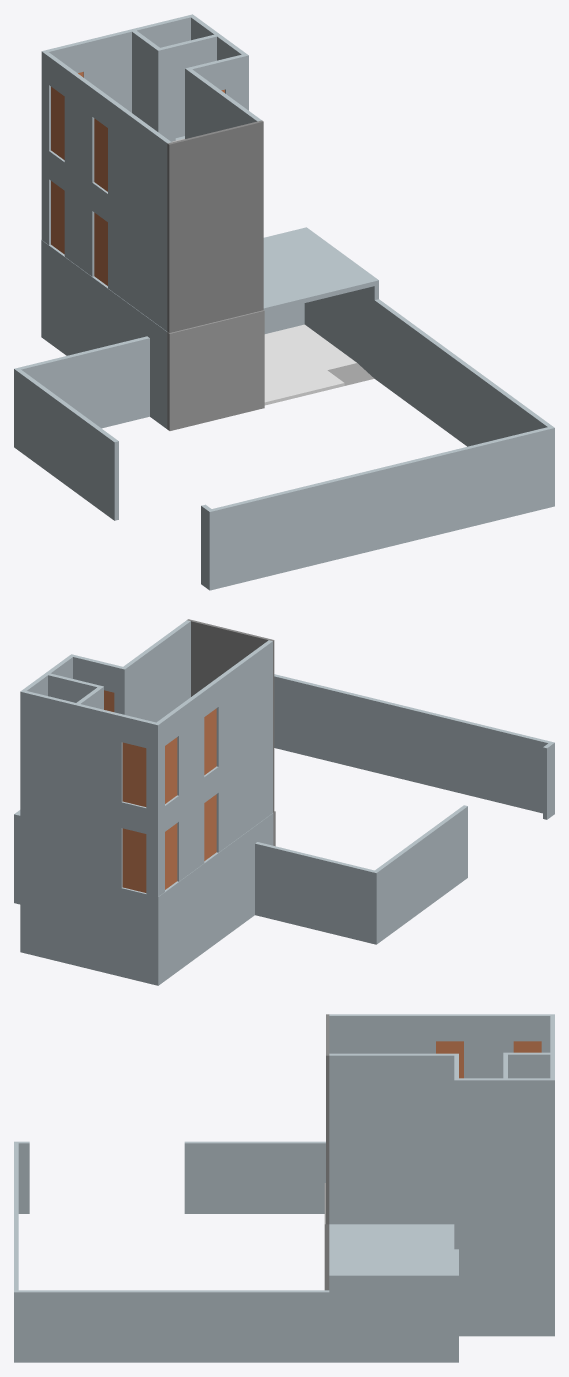
The model's file is wingAv3.dae.
3 renders of one model, top to bottom at view 1: azimuth 30°, elevation 25°; view 2: azimuth 150°, elevation 25°; view 3: azimuth 270°, elevation 25°, orthographic. The views are drawn at different scales.
Visible parts, largest first — view 1: mesh90, mesh83, mesh290, mesh130, mesh192.000, mesh192, mesh105, mesh100, mesh80.000, mesh80, mesh118, mesh259 (+21 smaller); view 2: mesh84, mesh138, mesh130, mesh166, mesh166.000, mesh104, mesh105, mesh80.000, mesh80, mesh64.000, mesh193.000, mesh238.000 (+21 smaller); view 3: mesh91, mesh135, mesh68.000, mesh68, mesh99, mesh165, mesh165.000, mesh137, mesh118, mesh78, mesh236, mesh87 (+7 smaller).
Part boxes in pixels (bbox=[...]): mesh90: bbox=[209, 428, 554, 590]; mesh83: bbox=[374, 300, 547, 446]; mesh290: bbox=[169, 311, 264, 430]; mesh130: bbox=[41, 240, 167, 428]; mesh192.000: bbox=[169, 121, 263, 238]; mesh192: bbox=[169, 216, 263, 332]; mesh105: bbox=[14, 369, 114, 520]; mesh100: bbox=[21, 338, 149, 428]; mesh80.000: bbox=[108, 194, 167, 331]; mesh80: bbox=[108, 100, 167, 236]; mesh118: bbox=[263, 230, 374, 308]; mesh259: bbox=[264, 324, 356, 402]; mesh84: bbox=[274, 676, 547, 813]; mesh138: bbox=[20, 863, 158, 985]; mesh130: bbox=[158, 813, 273, 985]; mesh166: bbox=[20, 777, 121, 887]; mesh166.000: bbox=[20, 691, 121, 802]; mesh104: bbox=[255, 843, 376, 944]; mesh105: bbox=[376, 806, 467, 944]; mesh80.000: bbox=[218, 727, 272, 852]; mesh80: bbox=[218, 641, 272, 766]; mesh64.000: bbox=[124, 621, 190, 722]; mesh193.000: bbox=[191, 621, 268, 696]; mesh238.000: bbox=[179, 777, 204, 881]; mesh91: bbox=[14, 1292, 329, 1362]; mesh135: bbox=[329, 1275, 458, 1362]; mesh68.000: bbox=[329, 1055, 454, 1139]; mesh68: bbox=[329, 1140, 454, 1224]; mesh99: bbox=[184, 1143, 325, 1213]; mesh165: bbox=[454, 1164, 554, 1249]; mesh165.000: bbox=[454, 1080, 554, 1164]; mesh137: bbox=[459, 1249, 554, 1336]; mesh118: bbox=[329, 1224, 454, 1273]; mesh78: bbox=[329, 1016, 435, 1053]; mesh236: bbox=[464, 1016, 513, 1078]; mesh87: bbox=[14, 1141, 329, 1292].
Size of the model in its own units: 11.5 by 17.42 by 9.1.
